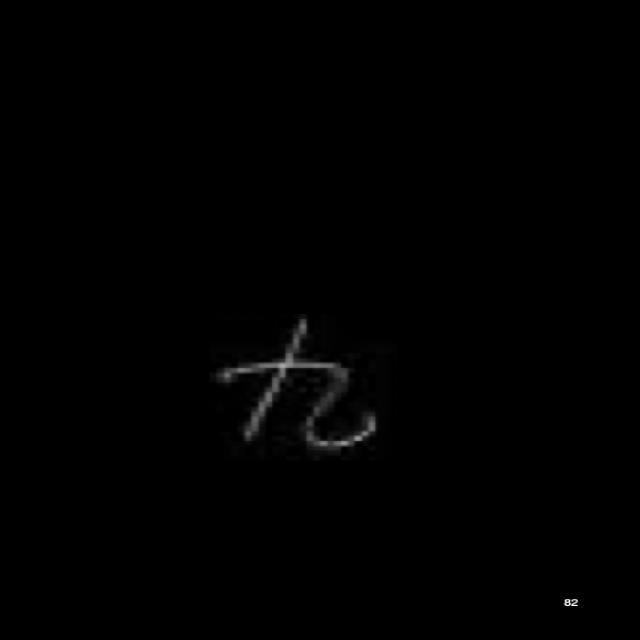9 -nine-: (210, 312, 386, 454)
